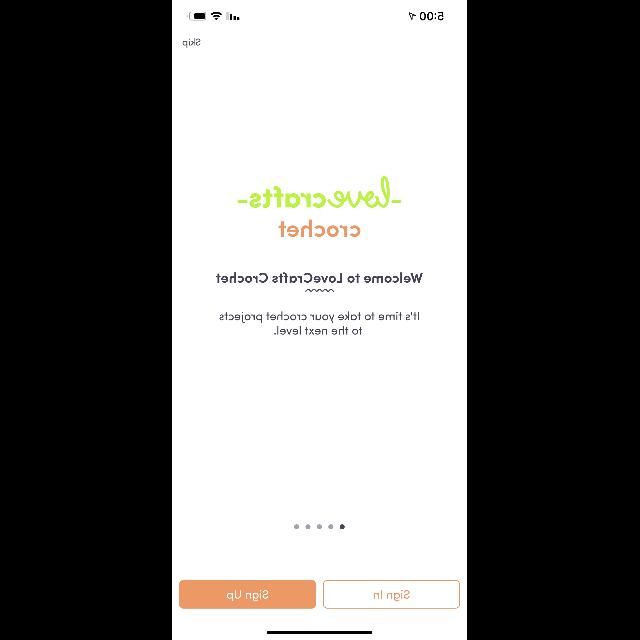image: (238, 176, 402, 208)
pageindicator: (295, 524, 345, 530)
text: (220, 312, 420, 334), (216, 273, 424, 283), (279, 220, 361, 237), (183, 38, 201, 48)
textbutton: (324, 580, 461, 608), (180, 580, 316, 608)
uppertaskbar: (188, 12, 444, 20)
